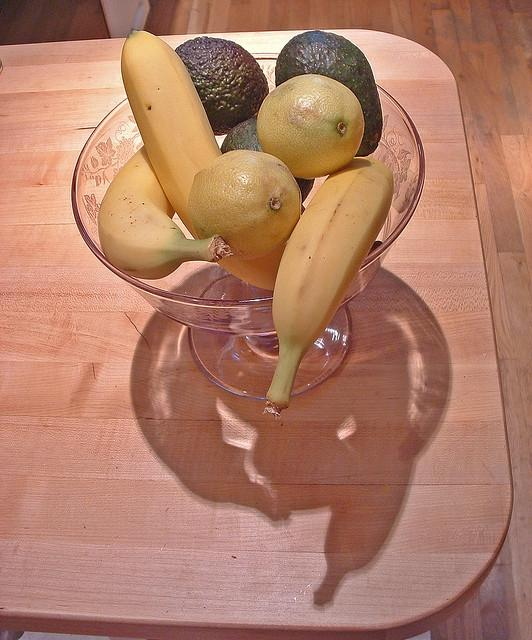avocado: (275, 30, 383, 156), (175, 36, 268, 136), (220, 118, 315, 205)
banana: (263, 156, 394, 419), (120, 28, 224, 240), (98, 146, 233, 280)
